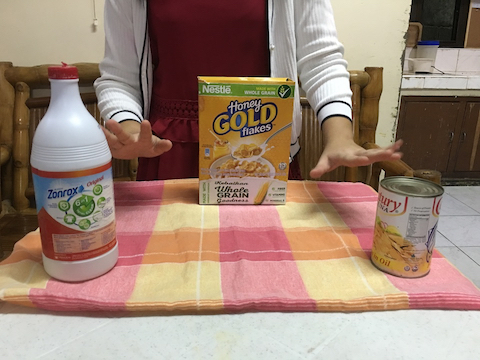bottle: (31, 60, 122, 283)
box: (196, 73, 300, 206)
can: (368, 171, 448, 279)
